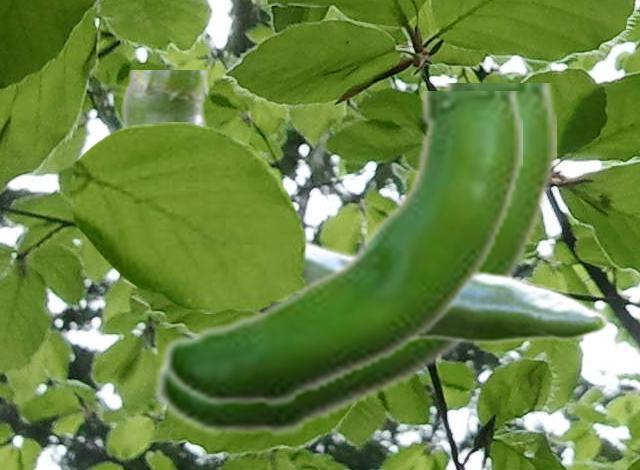green_chili: (152, 83, 555, 438), (121, 70, 605, 343), (160, 91, 521, 408)
